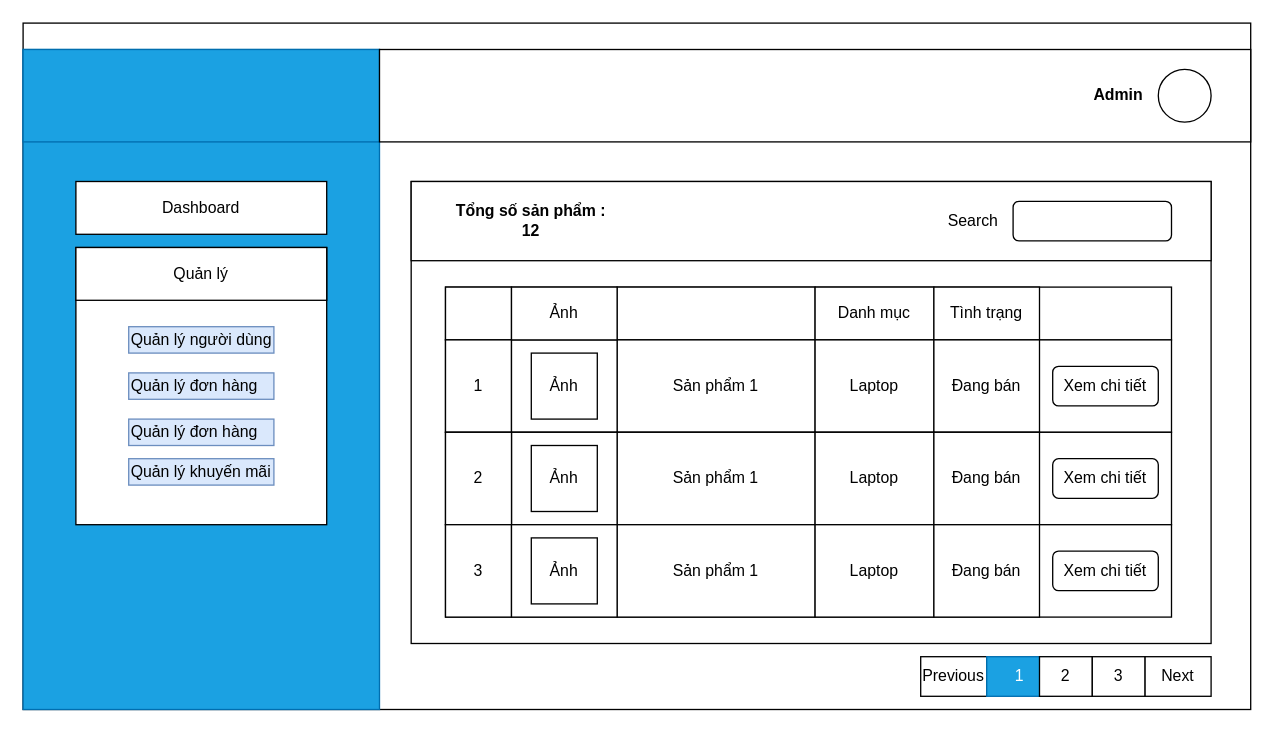
Image size: 1274x733. Some labels were removed from this diagram. Each missing label, with the centre of its shape:
Id: pixel 478 313
Trang quản trị: pixel 201 95
Tên sản phẩm: pixel 715 313
